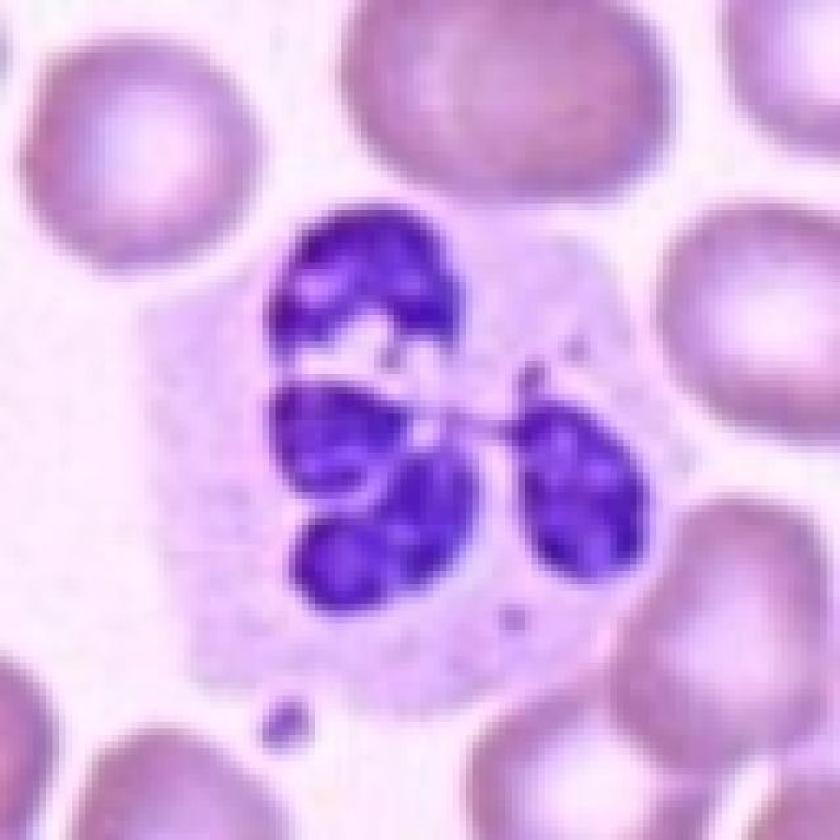neutrophil: (181, 140, 746, 697)
